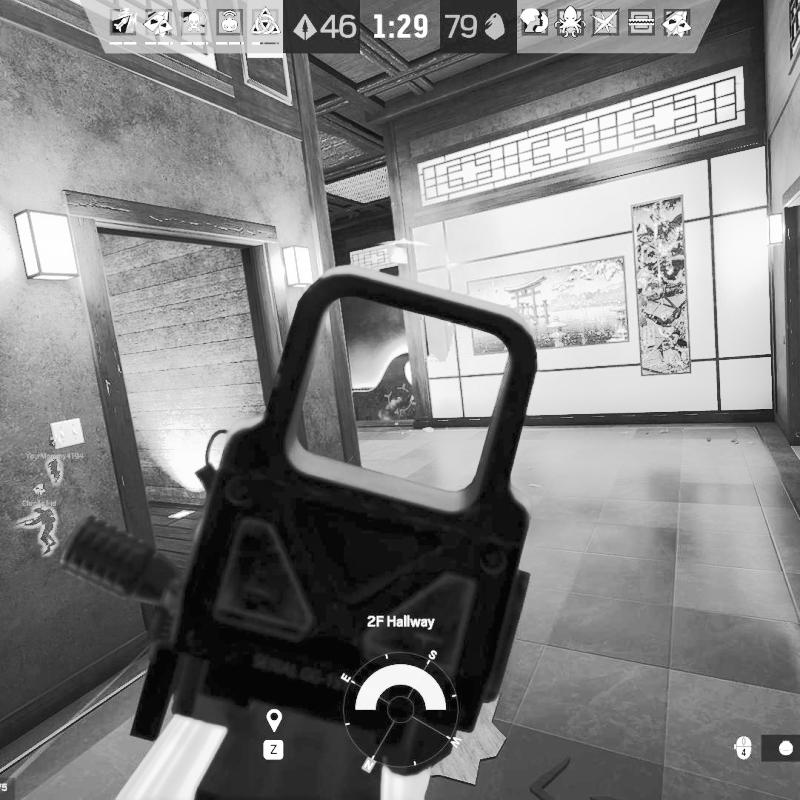Friend_label: (26, 433, 84, 460), (20, 482, 57, 508)
